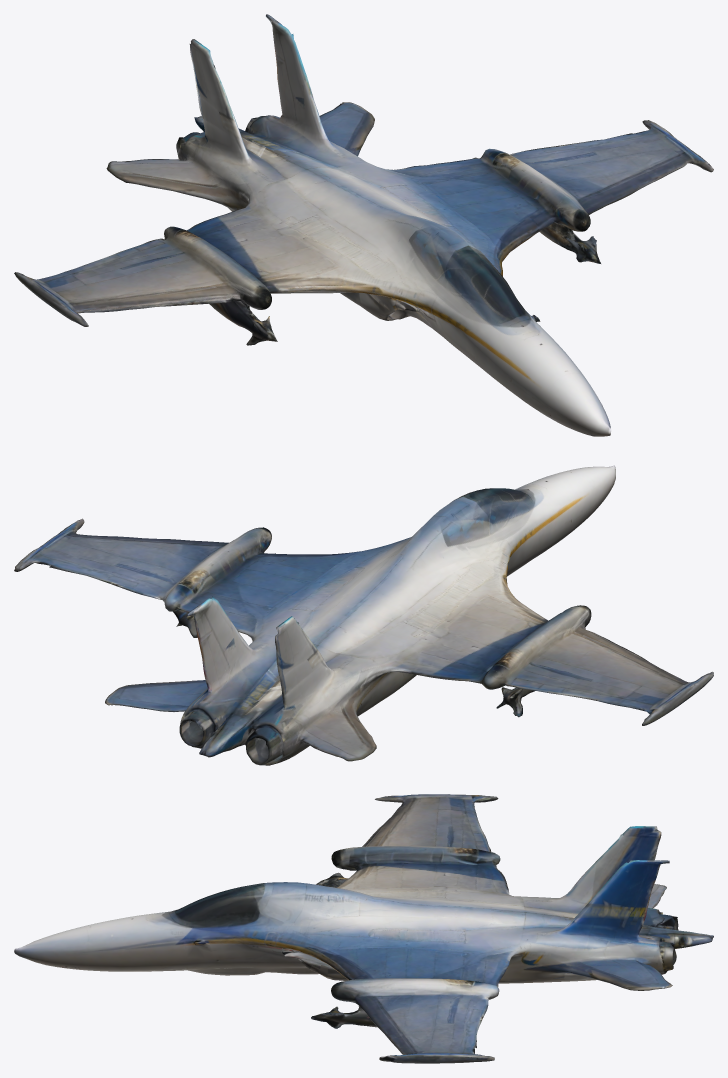
Rendered from _jet_plane_0308162152_texture.fbx.
3 renders of one model, top to bottom at view 1: azimuth 30°, elevation 25°; view 2: azimuth 150°, elevation 25°; view 3: azimuth 270°, elevation 25°, orthographic. The views are drawn at different scales.
Parts seen in each view (by area): view 1: Mesh1_Mesh1.040; view 2: Mesh1_Mesh1.040; view 3: Mesh1_Mesh1.040.
Part boxes in pixels (box(x1,y1,x2,y2)): Mesh1_Mesh1.040: box(14, 14, 713, 436); Mesh1_Mesh1.040: box(14, 465, 713, 765); Mesh1_Mesh1.040: box(14, 794, 713, 1063).
Size of the model in its own units: 176 by 40.62 by 198.
1 material, 1 textured.
